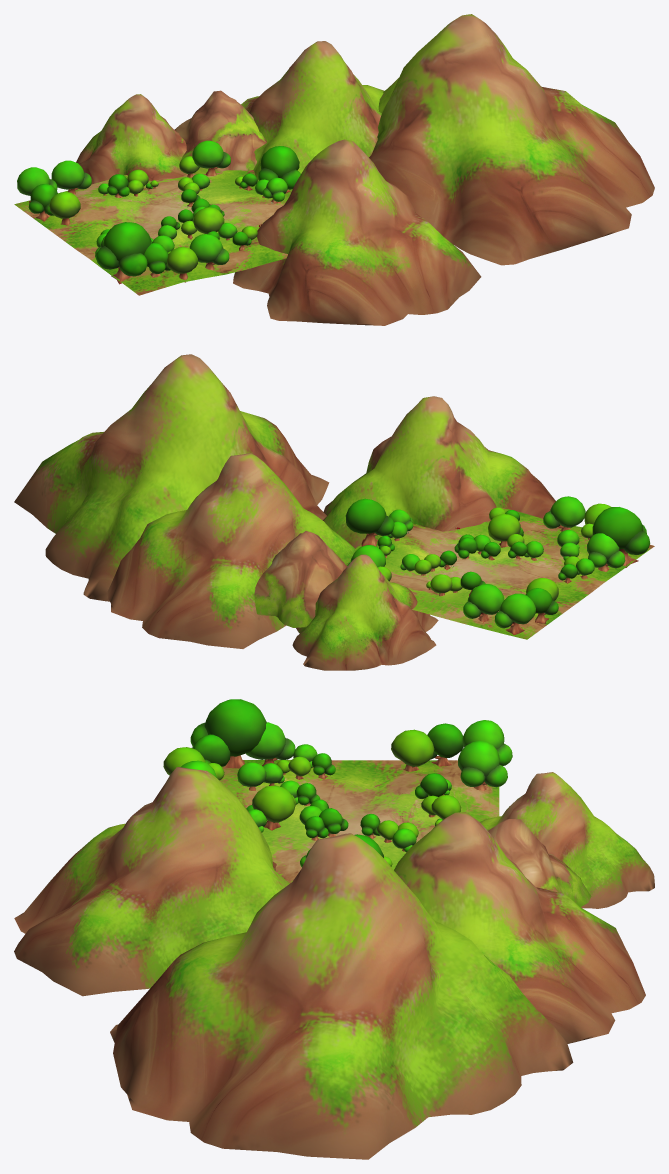
Rendered from Jungle-0819.FBX.
The picture shows the model from 3 angles, top to bottom: view 1: azimuth 30°, elevation 25°; view 2: azimuth 150°, elevation 25°; view 3: azimuth 270°, elevation 25°; orthographic projection. The views are drawn at different scales.
Parts seen in each view (by area): view 1: MountainForest007, MountainForest008, tereno002, MountainForest006, MountainForest003, Object039, ForestTrees028, ForestTrees032, ForestTrees024, ForestTrees029, ForestTrees017, ForestTrees026 (+6 smaller); view 2: MountainForest007, MountainForest006, MountainForest008, tereno002, MountainForest003, Object039, ForestTrees028, ForestTrees032, ForestTrees018, ForestTrees024, ForestTrees029, ForestTrees025 (+2 smaller); view 3: MountainForest007, MountainForest008, MountainForest006, tereno002, MountainForest003, Object039, ForestTrees028, ForestTrees024, ForestTrees026, ForestTrees022, ForestTrees025, ForestTrees016 (+2 smaller).
Part boxes in pixels (box(x1,y1,x2,y2)): MountainForest007: box(369, 14, 654, 265); MountainForest008: box(233, 139, 481, 325); tereno002: box(14, 170, 290, 295); MountainForest006: box(241, 41, 383, 193); MountainForest003: box(76, 94, 186, 184); Object039: box(174, 90, 266, 173); ForestTrees028: box(96, 222, 151, 284); ForestTrees032: box(258, 146, 300, 192); ForestTrees024: box(51, 160, 91, 194); ForestTrees029: box(189, 234, 229, 270); ForestTrees017: box(192, 140, 230, 175); ForestTrees026: box(49, 191, 80, 225); MountainForest007: box(14, 354, 329, 601); MountainForest006: box(107, 453, 355, 648); MountainForest008: box(322, 396, 555, 548); tereno002: box(345, 508, 654, 639); MountainForest003: box(292, 554, 438, 670); Object039: box(254, 531, 347, 627); ForestTrees028: box(592, 507, 650, 567); ForestTrees032: box(345, 498, 394, 546); ForestTrees018: box(494, 593, 535, 634); ForestTrees024: box(463, 584, 504, 622); ForestTrees029: box(543, 496, 585, 531); ForestTrees025: box(587, 533, 625, 571); MountainForest007: box(110, 833, 573, 1159); MountainForest008: box(14, 767, 289, 996); MountainForest006: box(394, 812, 645, 1043); tereno002: box(220, 760, 499, 883); MountainForest003: box(480, 772, 654, 908); Object039: box(488, 819, 591, 906); ForestTrees028: box(190, 699, 266, 768); ForestTrees024: box(458, 740, 507, 790); ForestTrees026: box(391, 729, 434, 771); ForestTrees022: box(252, 785, 295, 830); ForestTrees025: box(246, 722, 295, 766); ForestTrees016: box(427, 723, 463, 766).
Size of the model in its own units: 3082 by 894 by 2303.
